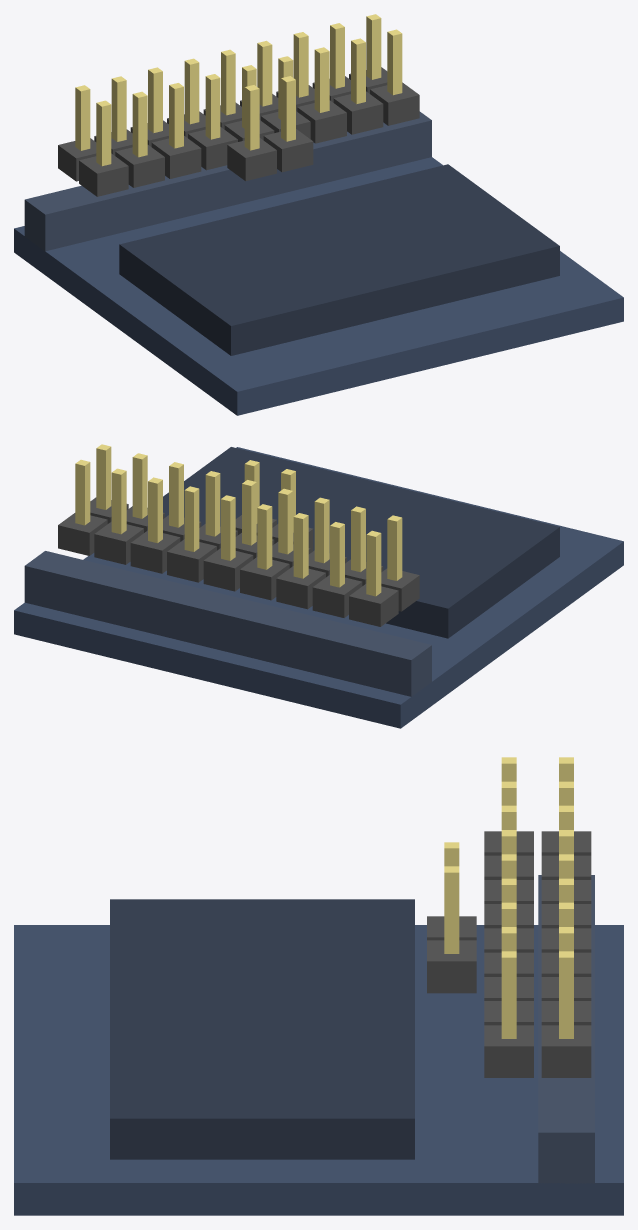
Rendered from led-bar-graph.glb.
3 views of the same model, one above another, from view 1: azimuth 30°, elevation 25°; view 2: azimuth 150°, elevation 25°; view 3: azimuth 270°, elevation 25° (orthographic). The views are drawn at different scales.
Visible parts, largest first — view 1: led-bar-graph-10_mesh; view 2: led-bar-graph-10_mesh; view 3: led-bar-graph-10_mesh.
Part boxes in pixels (x1,y1,x2,y2): led-bar-graph-10_mesh: (14,14,623,415); led-bar-graph-10_mesh: (14,444,623,728); led-bar-graph-10_mesh: (14,757,623,1215).
Bounding box in the file's own units: 27 × 11.2 × 27.
